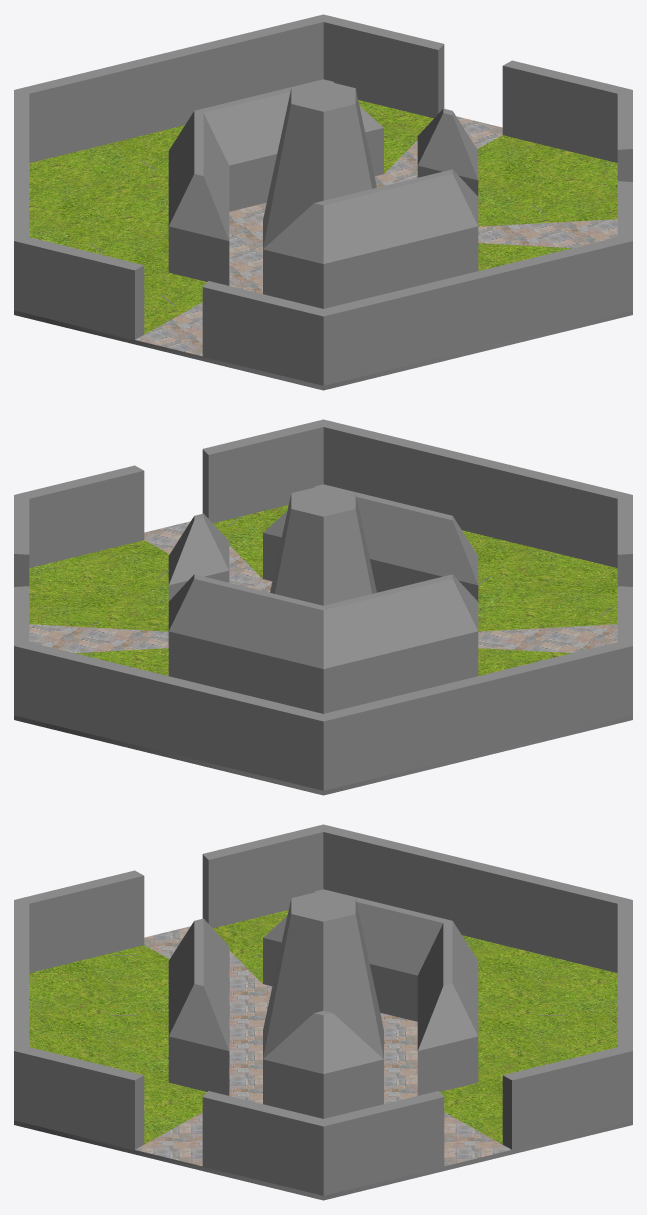
3 renders of one model, top to bottom at view 1: azimuth 30°, elevation 25°; view 2: azimuth 150°, elevation 25°; view 3: azimuth 270°, elevation 25°, orthographic.
Visible parts, largest first — view 1: Cylinder021; view 2: Cylinder021; view 3: Cylinder021.
Boxes of the visible parts, bbox=[...] form: Cylinder021: bbox=[14, 14, 632, 390]; Cylinder021: bbox=[14, 419, 632, 795]; Cylinder021: bbox=[14, 824, 632, 1200].
Bounding box in the file's own units: 140 × 31 × 121.
Materials: 5 (2 with a texture image).
